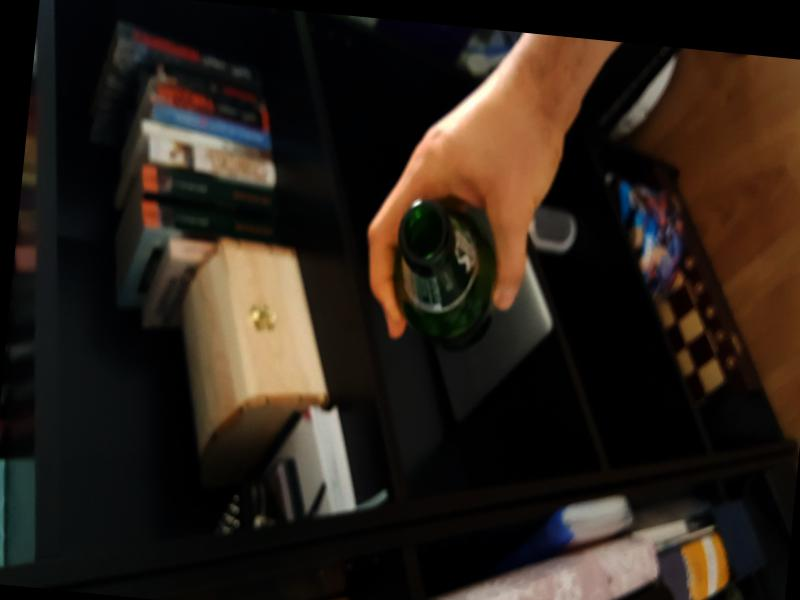Beer: (389, 196, 508, 354)
